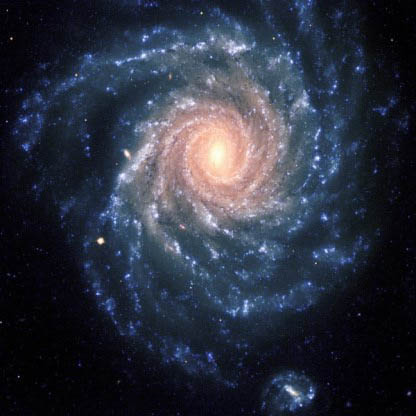NGC 1232: (20, 9, 395, 408)
